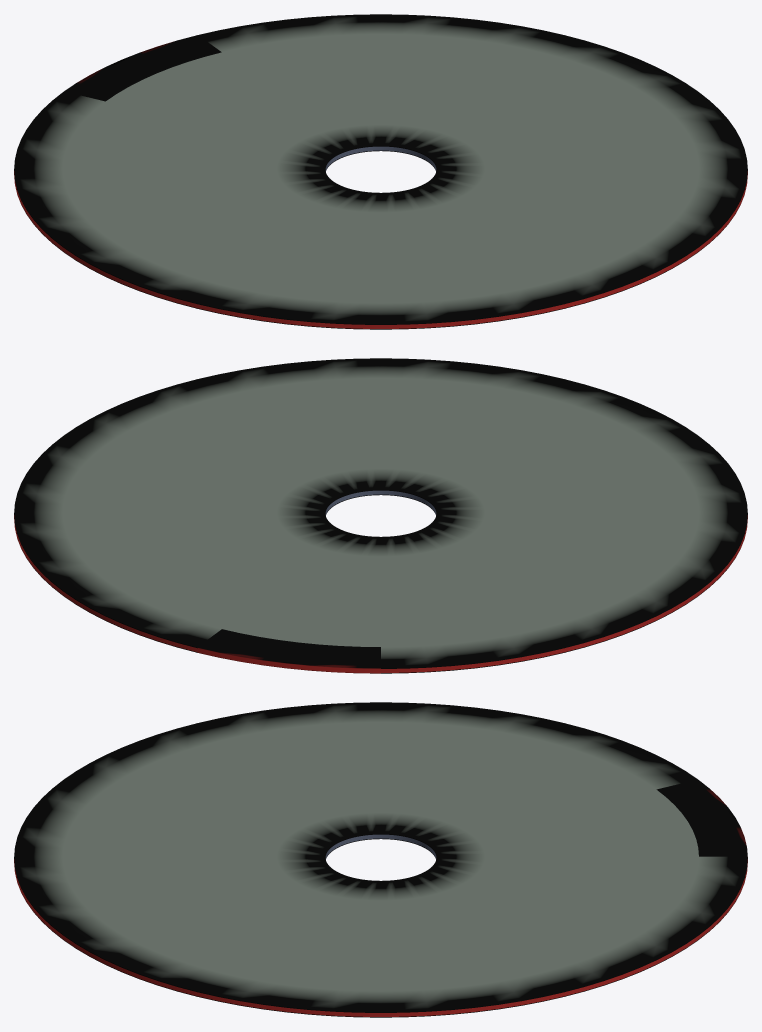
The picture shows the model from 3 angles, top to bottom: view 1: azimuth 30°, elevation 25°; view 2: azimuth 150°, elevation 25°; view 3: azimuth 270°, elevation 25°; orthographic projection.
Visible parts, largest first — view 1: CD_hp; view 2: CD_hp; view 3: CD_hp.
Part boxes in pixels (x1,y1,x2,y2): CD_hp: [14, 14, 747, 329]; CD_hp: [14, 358, 747, 673]; CD_hp: [14, 702, 747, 1017].
Bounding box in the file's own units: 23.74 × 0.2388 × 23.74.
